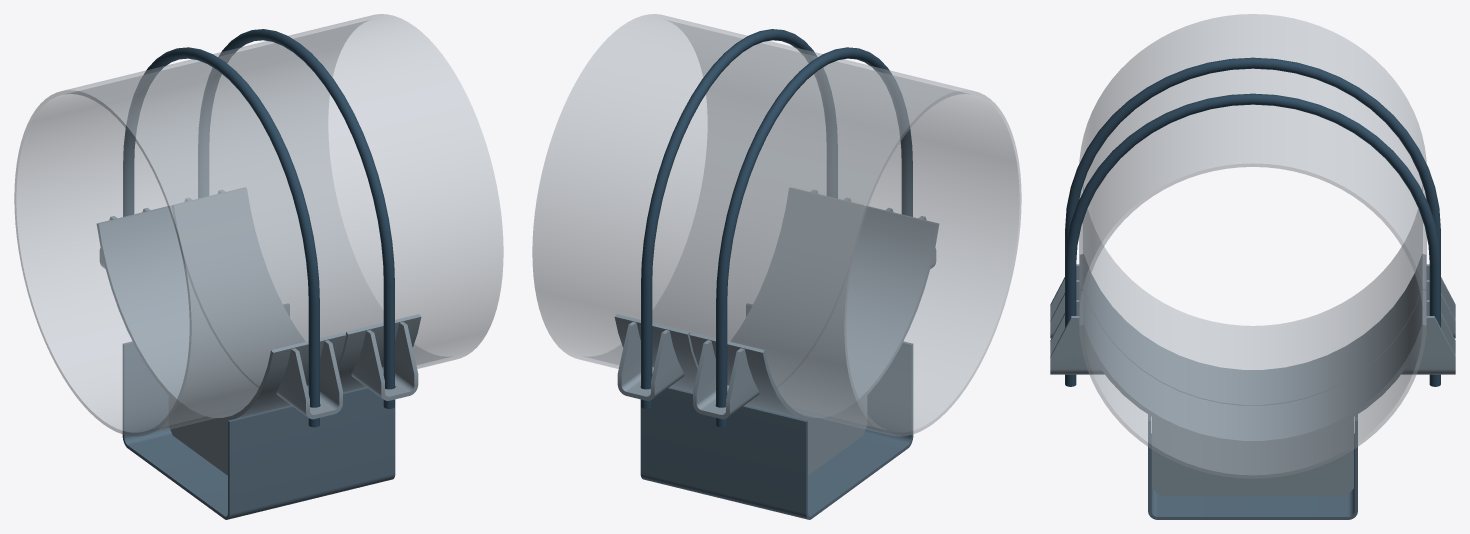
File: TS-626.00.000-061-opora-dn630-H150-L340.glb
The picture shows the model from 3 angles, left to right: view 1: azimuth 30°, elevation 25°; view 2: azimuth 150°, elevation 25°; view 3: azimuth 270°, elevation 25°; orthographic projection.
Visible parts, largest first — view 1: truba, skoba_0, podushka_4, podushka_5, homut_0, homut_1, ushko_9, ushko_7, rebro4_1; view 2: truba, skoba_0, podushka_4, podushka_5, homut_0, homut_1, ushko_8, ushko_6, rebro4_1; view 3: truba, podushka_5, podushka_4, rebro4_2, homut_1, homut_0, skoba_0, ushko_8, ushko_9, ushko_6, ushko_7.
Part boxes in pixels (x1,y1,x2,y2): truba: (14,14,503,436); skoba_0: (122,304,395,519); podushka_4: (96,206,346,422); podushka_5: (172,188,421,392); homut_0: (123,47,319,427); homut_1: (198,29,394,408); ushko_9: (351,322,418,400); ushko_7: (276,340,342,419); rebro4_1: (168,396,227,475); truba: (532,14,1021,436); skoba_0: (640,304,913,519); podushka_4: (689,206,939,422); podushka_5: (614,188,863,392); homut_0: (716,47,912,427); homut_1: (641,29,837,408); ushko_8: (617,322,684,400); ushko_6: (693,340,759,419); rebro4_1: (808,396,867,475); truba: (1079,14,1426,478); podushka_5: (1079,290,1426,444); podushka_4: (1079,254,1426,405); rebro4_2: (1152,417,1353,495); homut_1: (1065,93,1440,386); homut_0: (1065,57,1440,263); skoba_0: (1148,414,1357,519); ushko_8: (1401,300,1455,374); ushko_9: (1050,300,1104,374); ushko_6: (1426,264,1455,338); ushko_7: (1050,264,1079,338).
Bounding box in the file's own units: 640 × 807 × 733.
